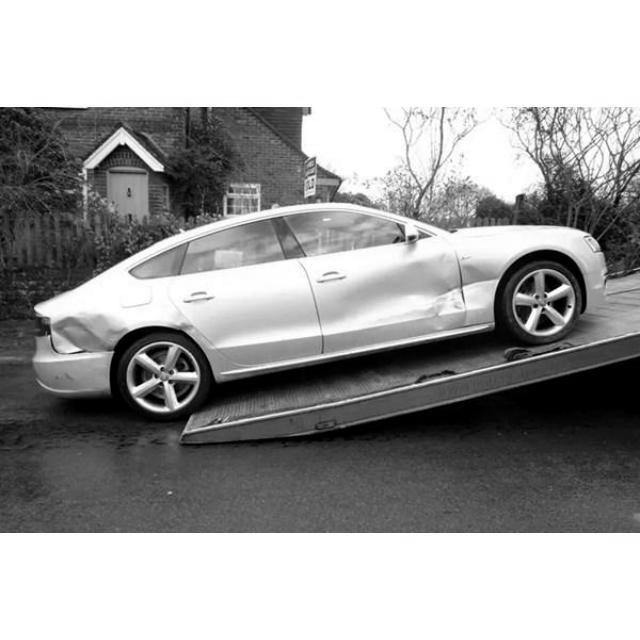doorouter-dent: (307, 235, 467, 344)
fender-dent: (460, 228, 553, 327)
quaterpanel-dent: (52, 281, 185, 352)
